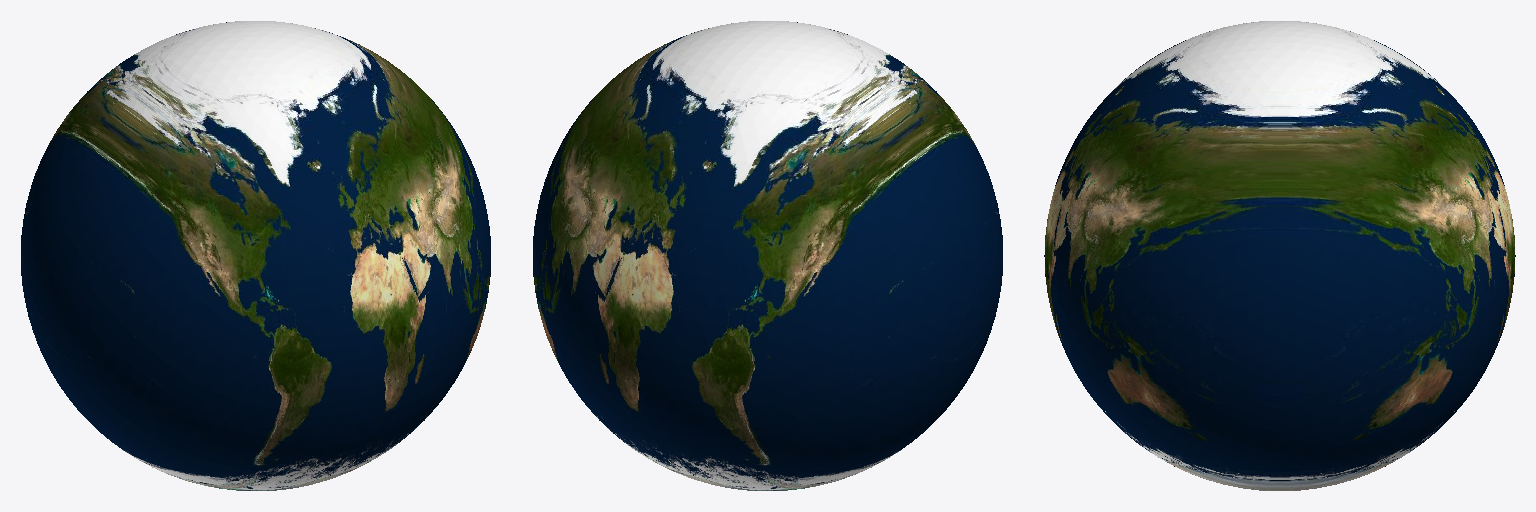
3 renders of one model, left to right at view 1: azimuth 30°, elevation 25°; view 2: azimuth 150°, elevation 25°; view 3: azimuth 270°, elevation 25°, orthographic.
Size of the model in its own units: 2 by 2 by 2.
1 materials, 1 textured.